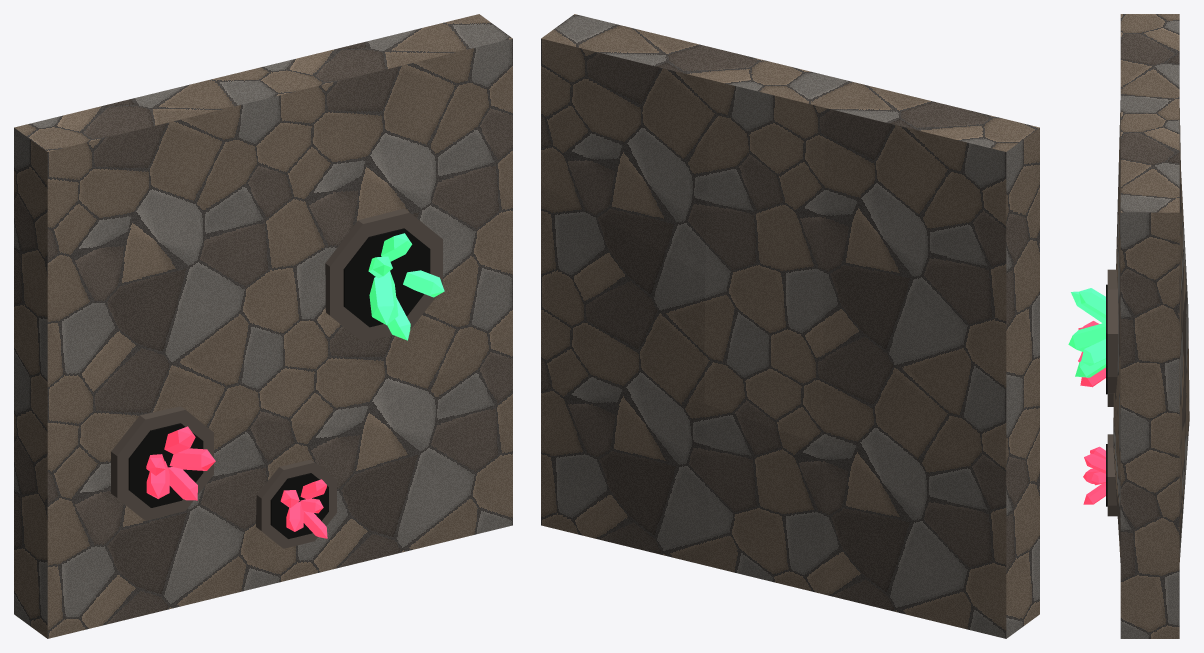
The model's file is mine_wall_gems.glb.
3 views of the same model, side by side, from view 1: azimuth 30°, elevation 25°; view 2: azimuth 150°, elevation 25°; view 3: azimuth 270°, elevation 25° (orthographic). The views are drawn at different scales.
Parts seen in each view (by area): view 1: mine_wall_gems; view 2: mine_wall_gems; view 3: mine_wall_gems.
Part boxes in pixels (x1,y1,x2,y2): mine_wall_gems: (14,14,512,638); mine_wall_gems: (541,14,1039,638); mine_wall_gems: (1068,14,1189,638).
Size of what is drawn, in the model's own units: 4 by 4 by 1.03.
5 materials, 1 textured.
